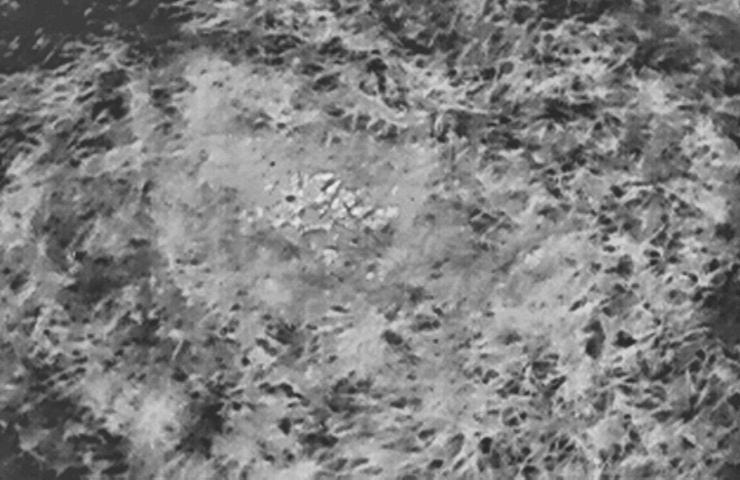landmines: (246, 166, 404, 263)
